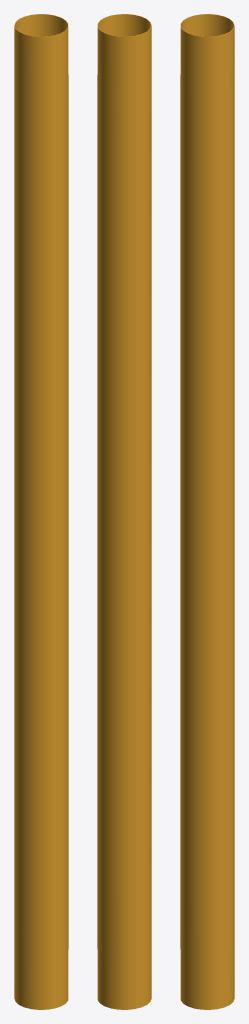
Rendered from poll.dae.
The picture shows the model from 3 angles, left to right: view 1: azimuth 90°, elevation 25°; view 2: azimuth 150°, elevation 25°; view 3: azimuth 270°, elevation 25°; orthographic projection.
Visible parts, largest first — view 1: mesh_2_Boss-Extrude2; view 2: mesh_2_Boss-Extrude2; view 3: mesh_2_Boss-Extrude2.
Part boxes in pixels (left/top/right/bottom): mesh_2_Boss-Extrude2: left=14, top=14, right=68, bottom=1009; mesh_2_Boss-Extrude2: left=97, top=14, right=151, bottom=1009; mesh_2_Boss-Extrude2: left=180, top=14, right=234, bottom=1009.
Bounding box in the file's own units: 0.0616 × 0.0616 × 1.22.
